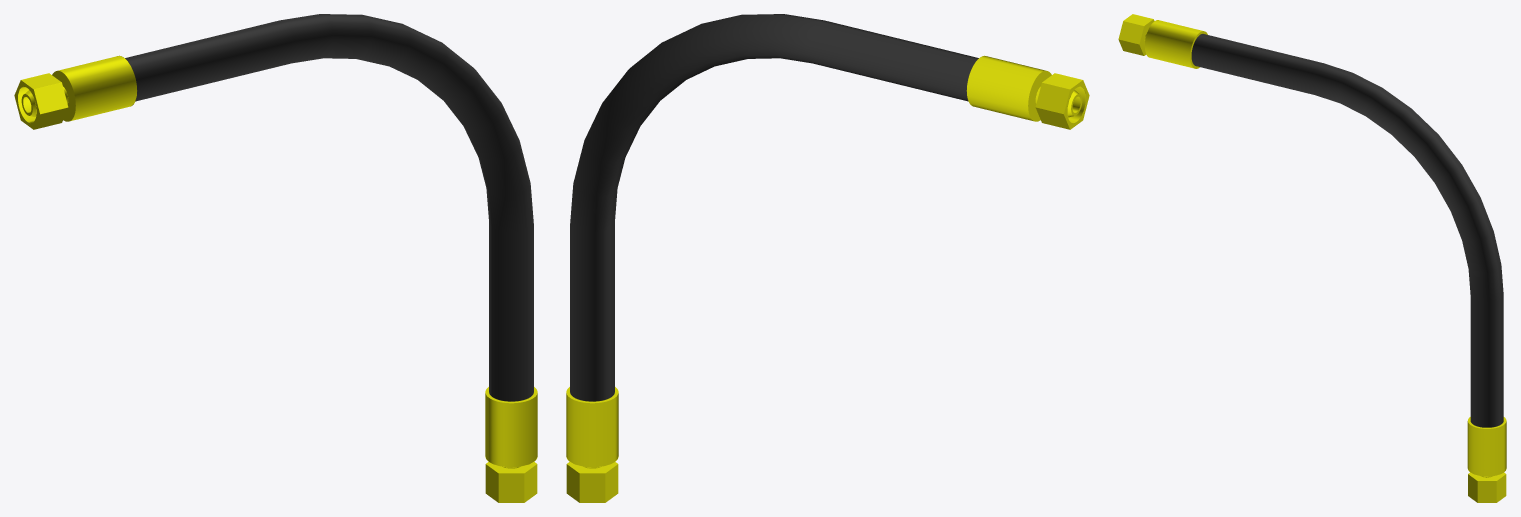
The model's file is Hose.fbx.
3 views of the same model, side by side, from view 1: azimuth 30°, elevation 25°; view 2: azimuth 150°, elevation 25°; view 3: azimuth 330°, elevation 25° (orthographic). The views are drawn at different scales.
Parts seen in each view (by area): view 1: Hose12_igs; view 2: Hose12_igs; view 3: Hose12_igs.
Part boxes in pixels (x1,y1,x2,y2): Hose12_igs: (14,14,537,502); Hose12_igs: (566,14,1089,502); Hose12_igs: (1118,14,1506,502).
Size of the model in its own units: 12.36 by 12.36 by 1.1.
